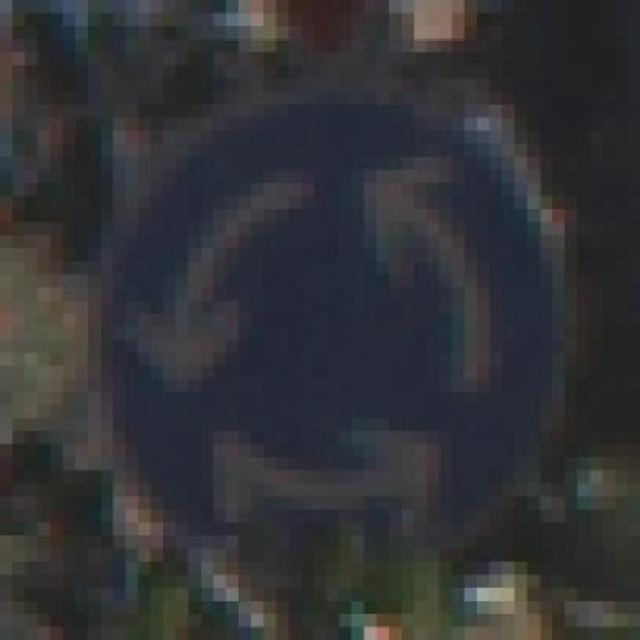Round-About: (50, 78, 590, 588)
